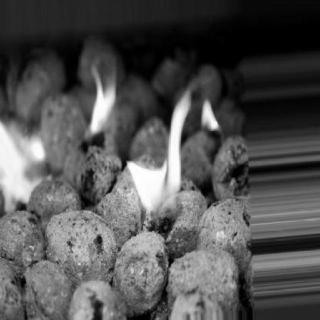Fire: (1, 109, 63, 218)
